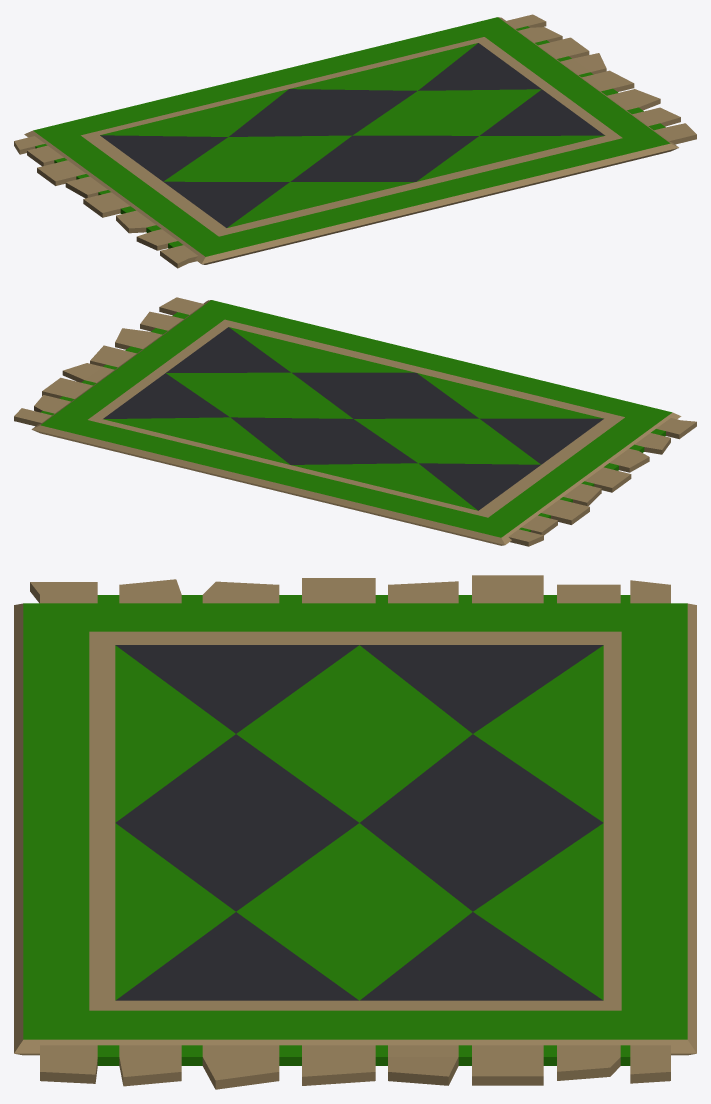
The model's file is Carpet_1B.fbx.
The picture shows the model from 3 angles, top to bottom: view 1: azimuth 30°, elevation 25°; view 2: azimuth 150°, elevation 25°; view 3: azimuth 270°, elevation 25°; orthographic projection. The views are drawn at different scales.
Parts seen in each view (by area): view 1: pCube787; view 2: pCube787; view 3: pCube787.
Part boxes in pixels (box(x1,y1,x2,y2)): pCube787: box(14, 14, 696, 268); pCube787: box(14, 297, 696, 546); pCube787: box(14, 575, 696, 1089).
Bounding box in the file's own units: 174 × 2.58 × 99.23.
